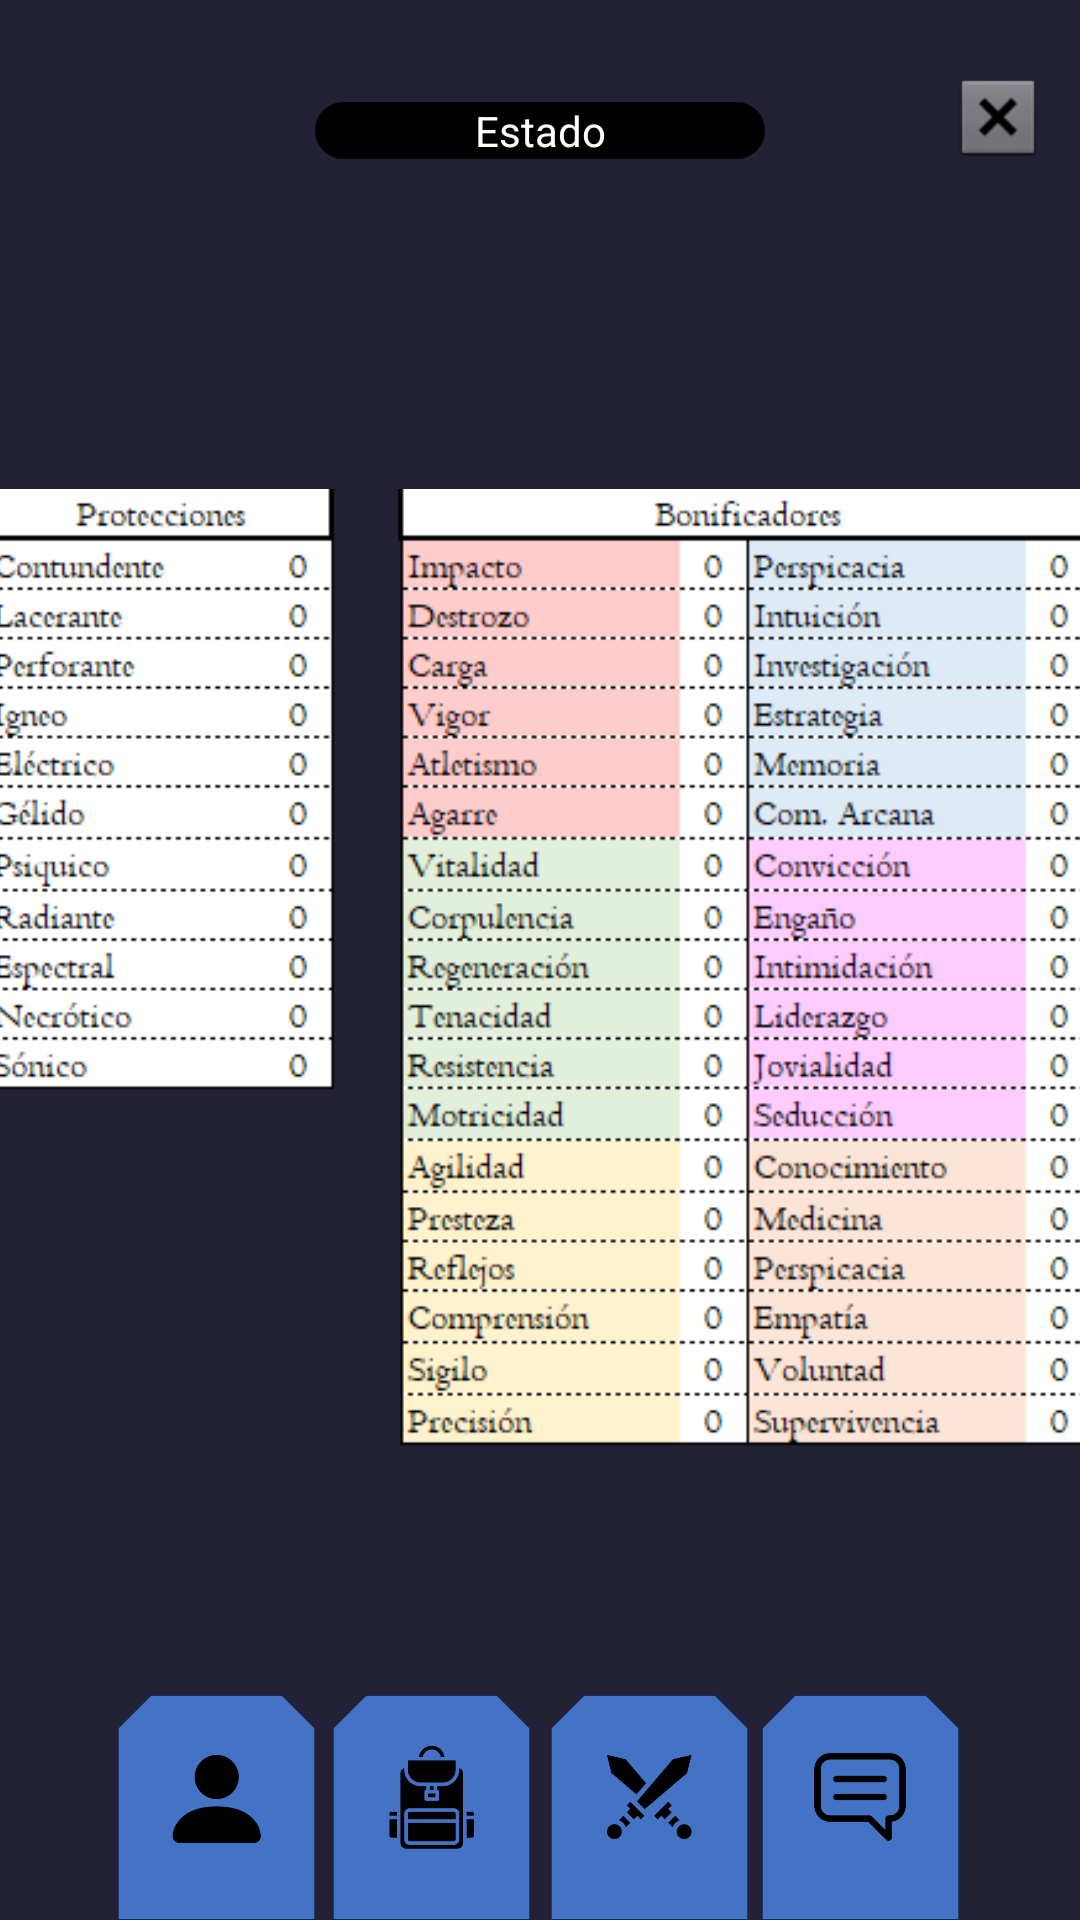

Screen size 1080×1920. Icon name, then its center in pixels as [x,y]:
pestanya equipacion: [649,1807]
pestanya informacion: [860,1807]
pestanya inventario: [431,1807]
pestanya pj: [216,1807]
